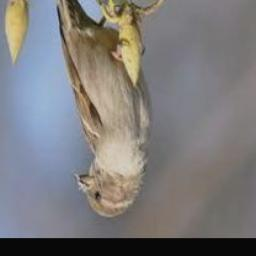Sparrow: (52, 0, 153, 218)
